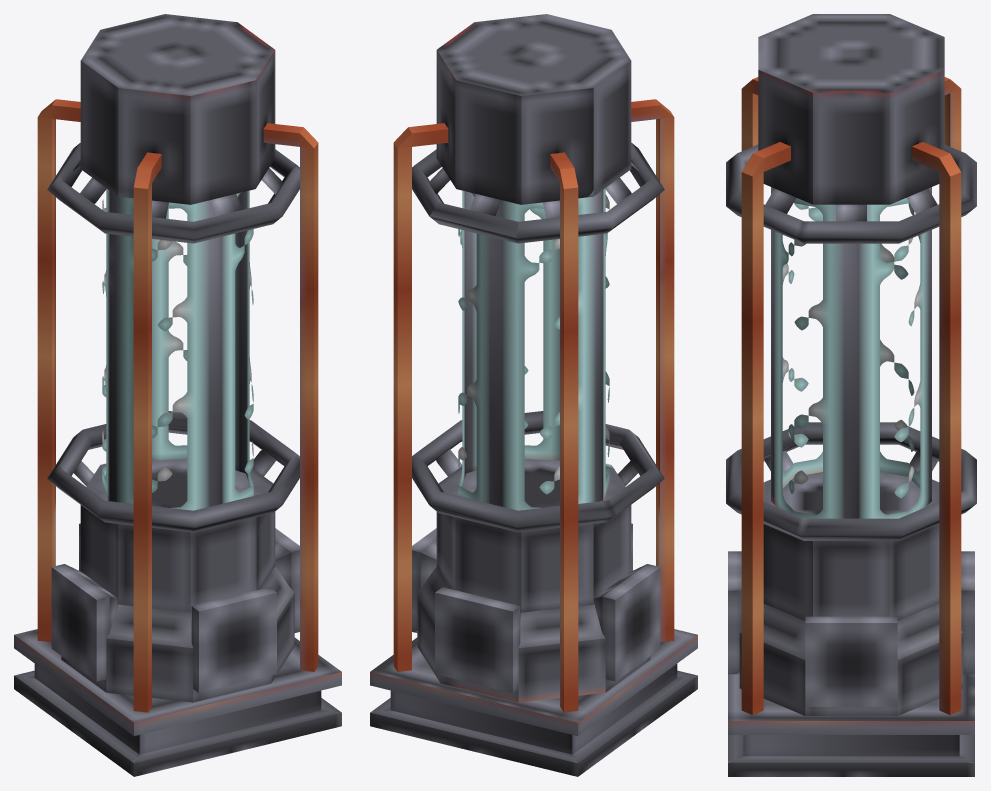
File: mixer_main.obj
3 renders of one model, left to right at view 1: azimuth 30°, elevation 25°; view 2: azimuth 150°, elevation 25°; view 3: azimuth 270°, elevation 25°, orthographic. The views are drawn at different scales.
Visible parts, largest first — view 1: Main; view 2: Main; view 3: Main.
Part boxes in pixels (x1,y1,x2,y2): Main: [14, 14, 341, 776]; Main: [370, 14, 697, 776]; Main: [726, 14, 976, 776].
Bounding box in the file's own units: 1.02 × 3 × 1.02.
